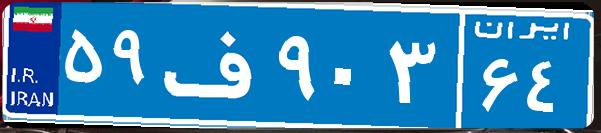0: (330, 28, 385, 110)
3: (385, 28, 445, 110)
4: (525, 38, 570, 115)
5: (57, 26, 110, 107)
6: (475, 38, 525, 113)
9: (273, 28, 330, 110), (110, 28, 158, 105)
ف: (158, 15, 273, 115)
